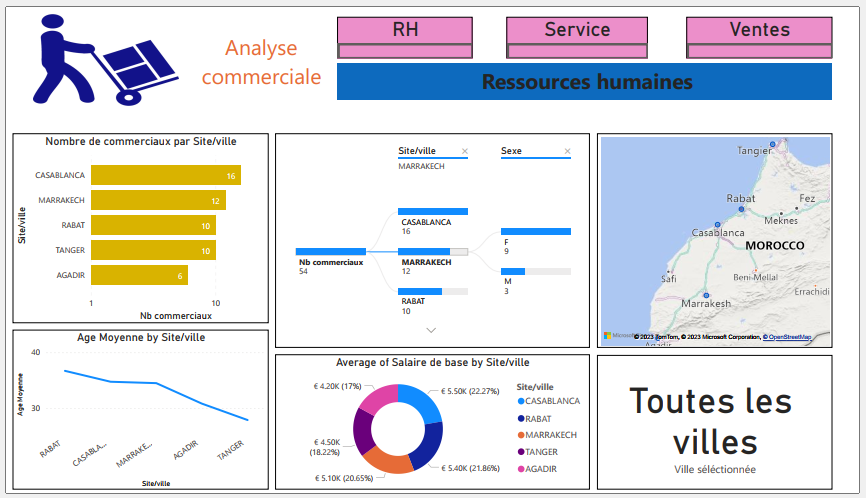

The dashboard page shown, as its layout file describes it:
{"tool":"powerbi","page":{"name":"RH","canvas":[1280,720],"ordinal":0},"visuals":[{"type":"textbox","box":[289.4,28.2,207.5,100.2],"z":0},{"type":"textbox","box":[497.2,79,742.5,55.4],"z":1000},{"type":"clusteredBarChart","title":"Nombre de commerciaux par Site/ville","fields":{"Y":["RH.Nb commerciaux"],"Category":["RH.Site/ville"]},"box":[9.9,184.9,384,285.2],"z":2000},{"type":"decompositionTreeVisual","fields":{"Analyze":["RH.Nb commerciaux"],"ExplainBy":["RH.Site/ville","RH.Sexe"]},"box":[403.8,184.9,471.5,321.9],"z":3000},{"type":"map","fields":{"Category":["RH.Site/ville"]},"box":[886.6,184.9,352.9,321.9],"z":4000},{"type":"lineChart","fields":{"Category":["RH.Site/ville"],"Y":["RH.Age Moyenne"]},"box":[10,480,384,240],"z":5000},{"type":"donutChart","fields":{"Category":["RH.Site/ville"],"Y":["Avg(RH.Salaire de base )"]},"box":[403.8,516.7,471.5,203.3],"z":6000},{"type":"card","fields":{"Values":["RH.Ville selectione"]},"box":[887,518,353,202],"z":7000},{"type":"actionButton","title":"RH","box":[496.9,9.9,203.3,62.1],"z":8000},{"type":"actionButton","title":"Service","box":[751.1,9.9,211.8,62.1],"z":9000},{"type":"actionButton","title":"Ventes","box":[1020.7,9.9,218.8,62.1],"z":10000},{"type":"image","box":[10,0,279,150],"z":11000}]}

Visuals, with their boxes in screenshot pixels (x1, y1, x2, y2), scaled from the page's 1280x720 canvas onto the 866x498 screenshot:
textbox: left=196, top=20, right=336, bottom=89
textbox: left=336, top=55, right=839, bottom=93
"Nombre de commerciaux par Site/ville" clusteredBarChart: left=7, top=128, right=266, bottom=325
decompositionTreeVisual - RH.Nb commerciaux x RH.Site/ville: left=273, top=128, right=592, bottom=351
map - RH.Site/ville: left=600, top=128, right=839, bottom=351
lineChart - RH.Site/ville x RH.Age Moyenne: left=7, top=332, right=267, bottom=497
donutChart - RH.Site/ville x Avg(RH.Salaire de base ): left=273, top=357, right=592, bottom=497
card - RH.Ville selectione: left=600, top=358, right=839, bottom=497
"RH" actionButton: left=336, top=7, right=474, bottom=50
"Service" actionButton: left=508, top=7, right=651, bottom=50
"Ventes" actionButton: left=691, top=7, right=839, bottom=50
image: left=7, top=0, right=196, bottom=104
